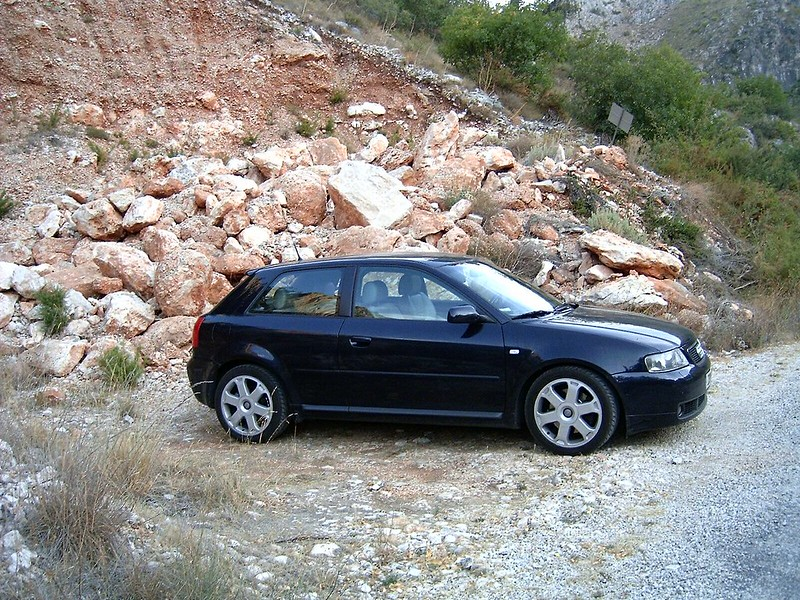car: (186, 254, 720, 456)
